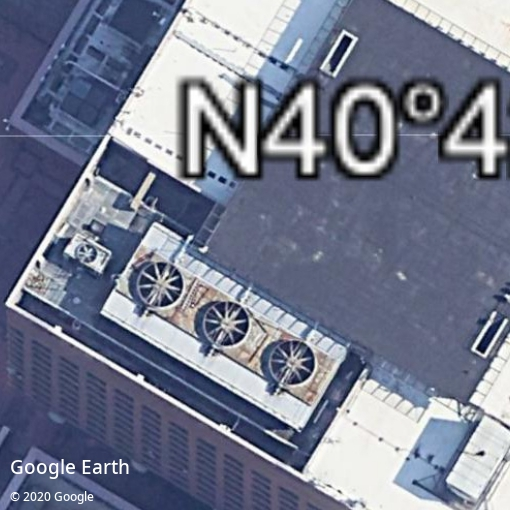Vent: (269, 340, 316, 386), (204, 301, 250, 347), (138, 261, 183, 308), (76, 243, 97, 263)
